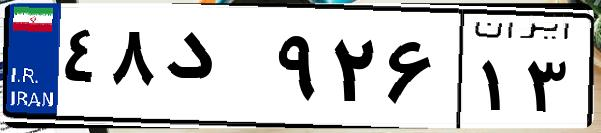1: (475, 38, 525, 113)
2: (330, 28, 385, 110)
3: (525, 38, 570, 115)
4: (57, 26, 110, 100)
6: (385, 28, 445, 110)
8: (110, 28, 158, 98)
9: (270, 28, 330, 110)
د: (158, 20, 270, 120)
